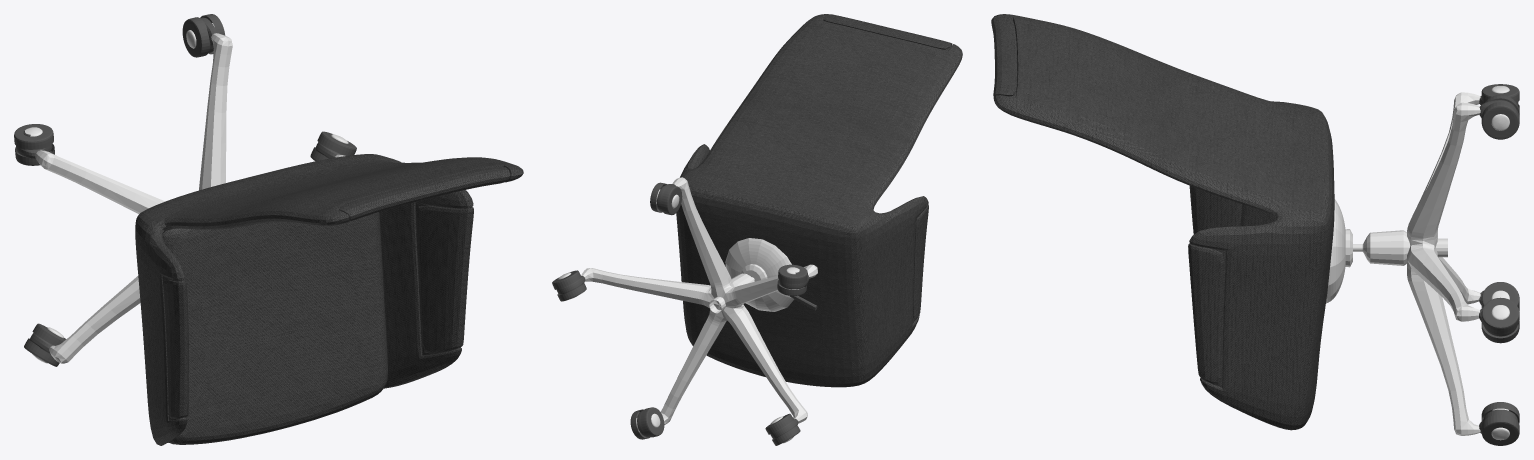
The model's file is taskChair.glb.
3 renders of one model, left to right at view 1: azimuth 30°, elevation 25°; view 2: azimuth 150°, elevation 25°; view 3: azimuth 270°, elevation 25°, orthographic. The views are drawn at different scales.
Parts seen in each view (by area): view 1: CORDIA_Task chair N170825; view 2: CORDIA_Task chair N170825; view 3: CORDIA_Task chair N170825.
Part boxes in pixels (x1=…): CORDIA_Task chair N170825: x1=14, y1=14, x2=523, y2=445; CORDIA_Task chair N170825: x1=552, y1=14, x2=962, y2=445; CORDIA_Task chair N170825: x1=991, y1=14, x2=1519, y2=445.
Bounding box in the file's own units: 0.7516 × 0.7926 × 1.05.
Materials: 3 (1 with a texture image).
